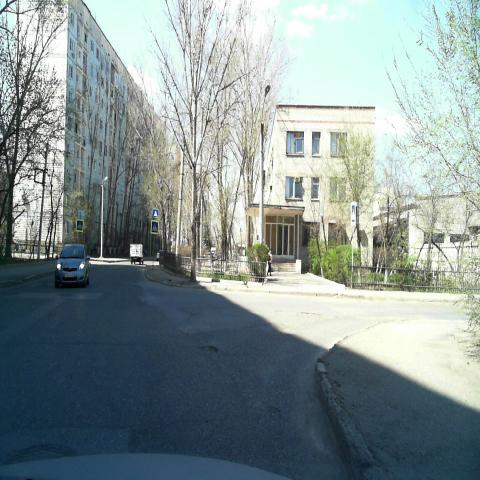5_19_1: (150, 220, 159, 234), (76, 220, 84, 232)
5_20: (153, 208, 158, 218)
